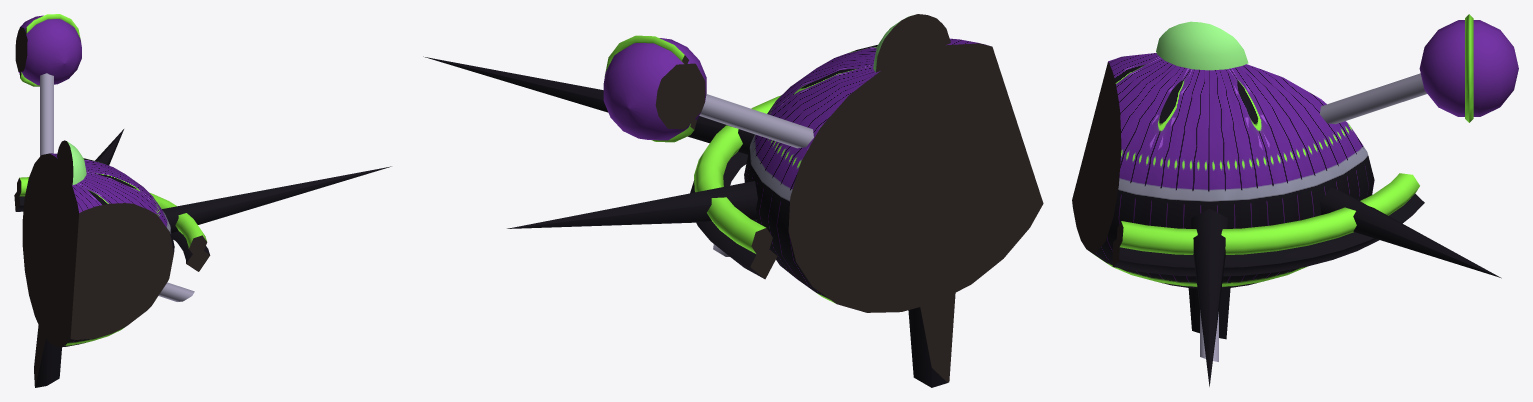
The model's file is dominion_outpost_debris2.obj.
3 renders of one model, left to right at view 1: azimuth 30°, elevation 25°; view 2: azimuth 150°, elevation 25°; view 3: azimuth 270°, elevation 25°, orthographic. The views are drawn at different scales.
Parts seen in each view (by area): view 1: hub, spike, pod, strut, glow_ring, crown, ring_frame, pod_band; view 2: hub, spike, pod, glow_ring, strut, crown, ring_frame, pod_band; view 3: hub, spike, glow_ring, pod, ring_frame, crown, strut, pod_band.
Boxes of the visible parts, <box> form: hub: <box>22,153,174,347</box>; spike: <box>34,129,391,387</box>; pod: <box>15,15,81,85</box>; strut: <box>40,73,194,301</box>; glow_ring: <box>17,177,207,253</box>; crown: <box>56,140,86,184</box>; ring_frame: <box>14,192,210,271</box>; pod_band: <box>19,14,80,86</box>; hub: <box>744,38,1043,312</box>; spike: <box>423,56,955,387</box>; pod: <box>603,38,706,140</box>; glow_ring: <box>694,95,780,255</box>; strut: <box>699,94,813,256</box>; crown: <box>873,14,950,72</box>; ring_frame: <box>690,152,777,279</box>; pod_band: <box>604,35,696,142</box>; hub: <box>1072,53,1374,288</box>; spike: <box>1111,187,1501,386</box>; glow_ring: <box>1116,173,1419,254</box>; pod: <box>1419,20,1518,116</box>; ring_frame: <box>1112,193,1424,276</box>; crown: <box>1156,21,1248,70</box>; strut: <box>1200,73,1427,361</box>; pod_band: <box>1465,14,1473,122</box>.
Bounding box in the file's own units: 108 × 77.05 × 80.97.
Materials: 7 (1 with a texture image).
